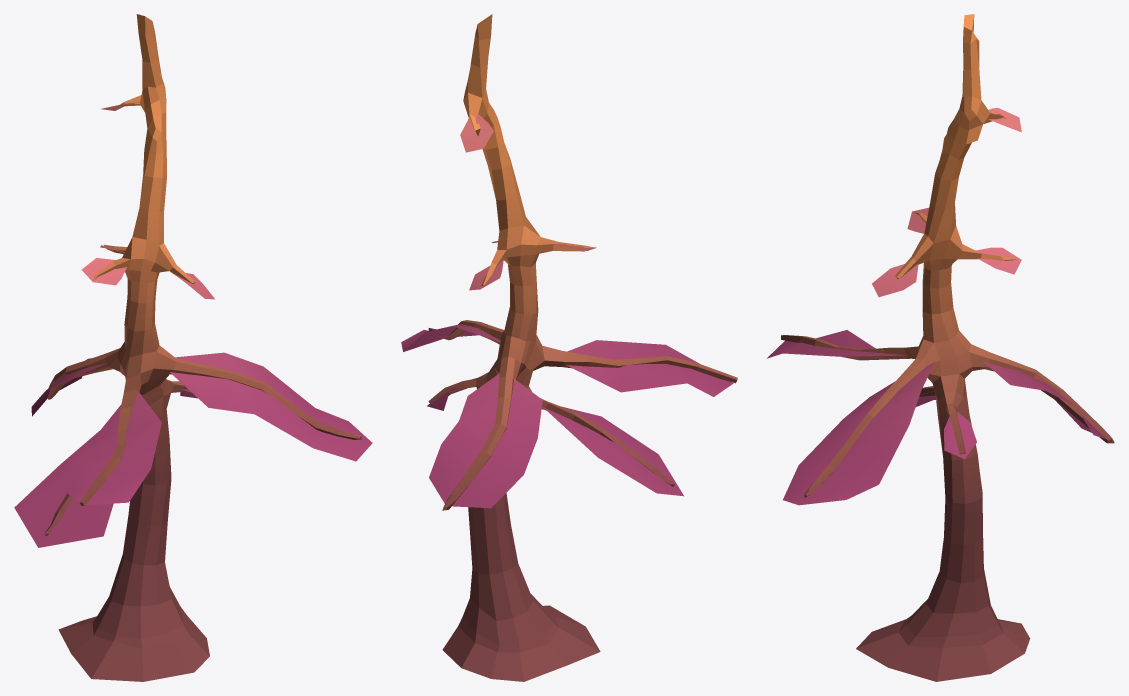
Rendered from Bare_D.fbx.
The picture shows the model from 3 angles, left to right: view 1: azimuth 30°, elevation 25°; view 2: azimuth 150°, elevation 25°; view 3: azimuth 270°, elevation 25°; orthographic projection. The views are drawn at different scales.
Parts seen in each view (by area): view 1: Bare_D_; view 2: Bare_D_; view 3: Bare_D_.
Boxes of the visible parts, box(x1,y1,x2,y2) form: Bare_D_: box(14, 14, 372, 681); Bare_D_: box(401, 14, 737, 681); Bare_D_: box(767, 14, 1114, 681).
Bounding box in the file's own units: 20.3 × 40.35 × 19.83.
